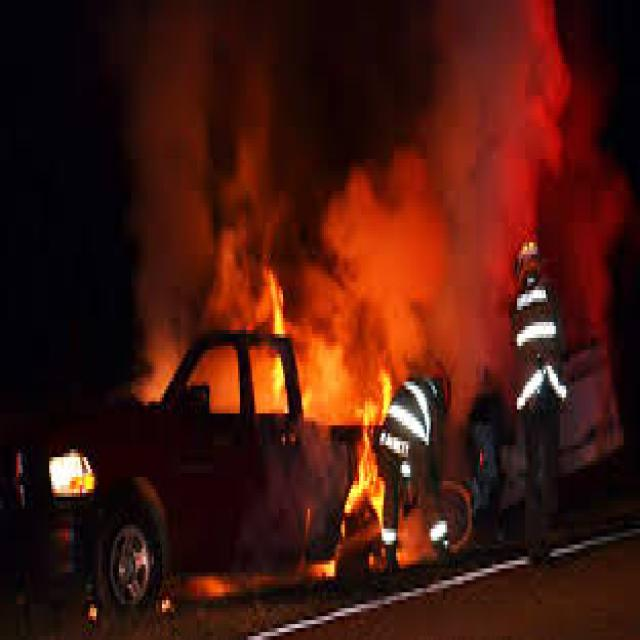Fire: (243, 244, 406, 574)
Smoke: (402, 9, 603, 218)
